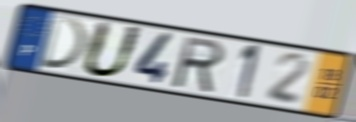1: (236, 42, 264, 101)
2: (264, 51, 311, 109)
4: (132, 29, 176, 87)
D: (37, 13, 91, 72)
R: (172, 34, 226, 95)
U: (79, 19, 146, 80)
